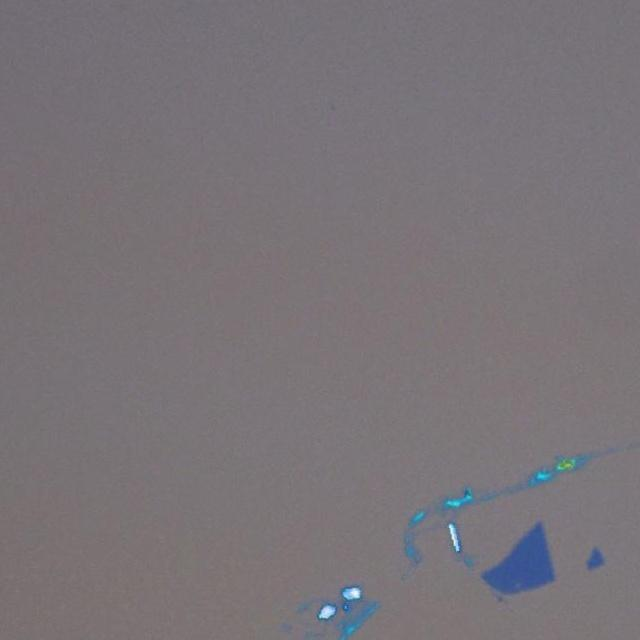monolayer-eWW4: (479, 519, 558, 595), (584, 540, 606, 574)
